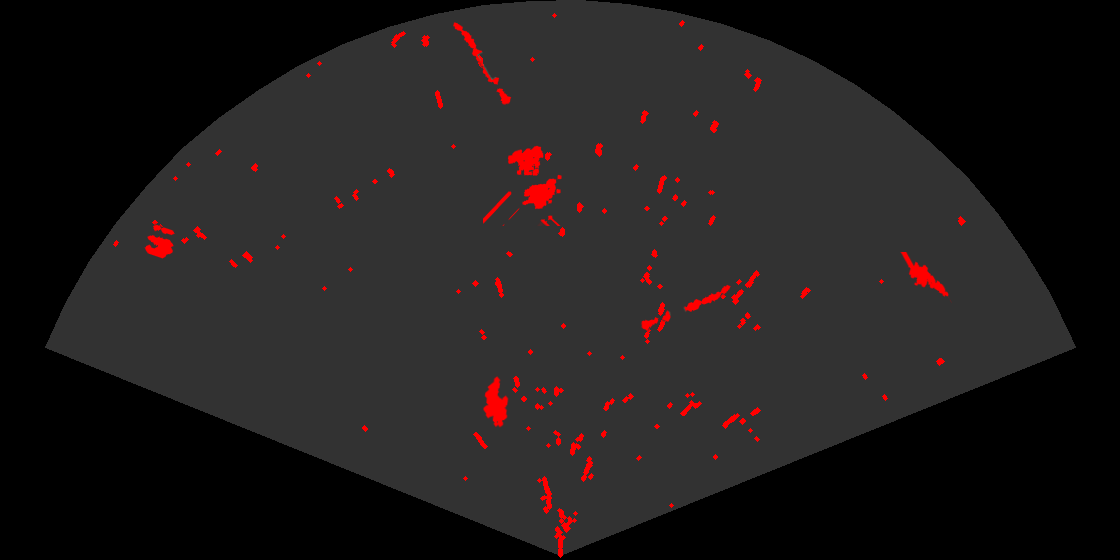AUV: (482, 375, 510, 429)
ball: (143, 223, 176, 260)
cage: (483, 144, 563, 226)
chain: (452, 21, 513, 107), (639, 283, 732, 332)
frogman: (900, 252, 952, 304)
